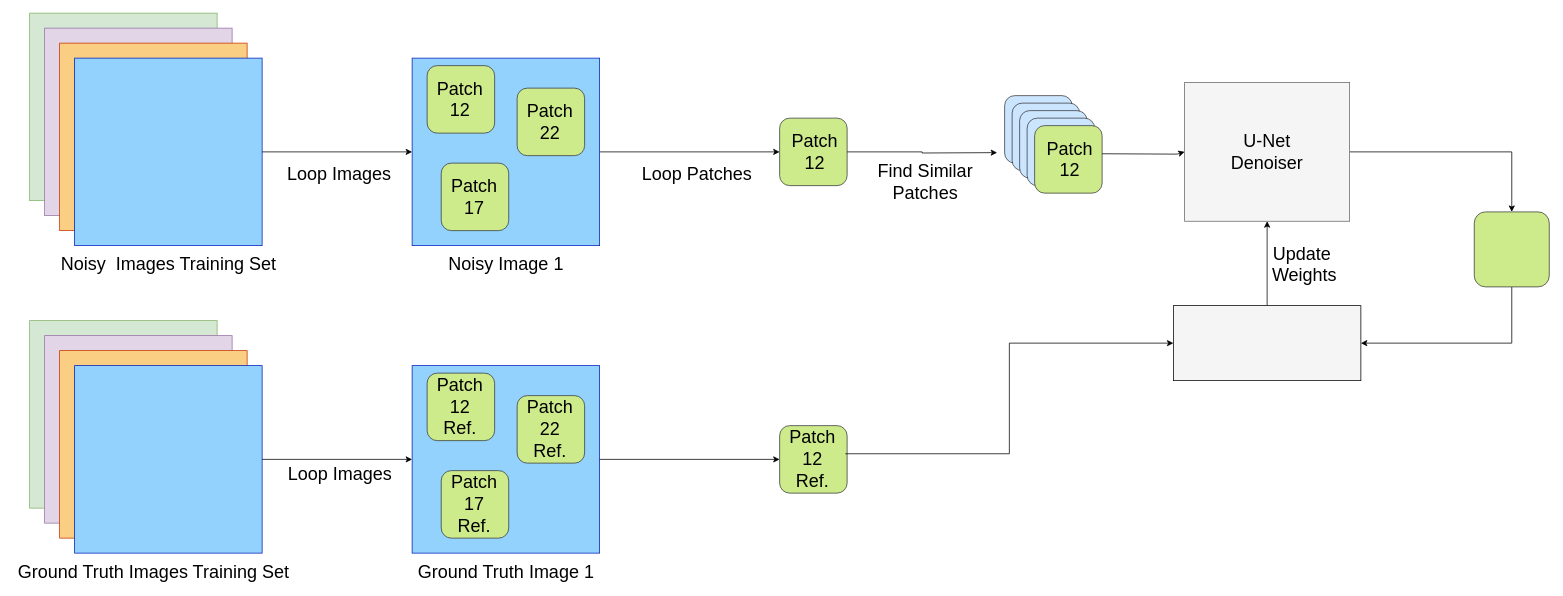
This 1563x596 diagram has some shape labels left out. Here are the shapes that lost their labels. From the top down, the centre of each, then its label:
point 1511,249: Denoised Patch 12
point 1267,343: Loss MSE
